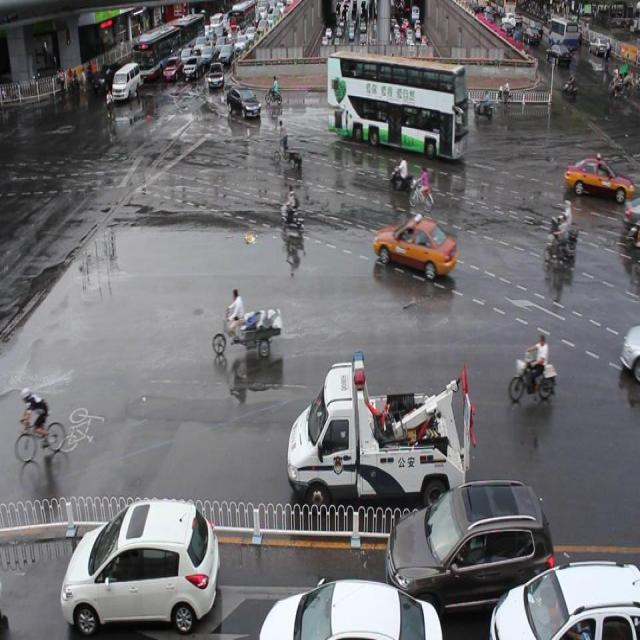bus: (287, 352, 473, 518)
car: (387, 480, 552, 620), (61, 498, 219, 629), (488, 559, 640, 640), (259, 576, 442, 640), (373, 216, 457, 278), (563, 155, 640, 204), (226, 84, 260, 121)
van: (326, 47, 467, 160)
